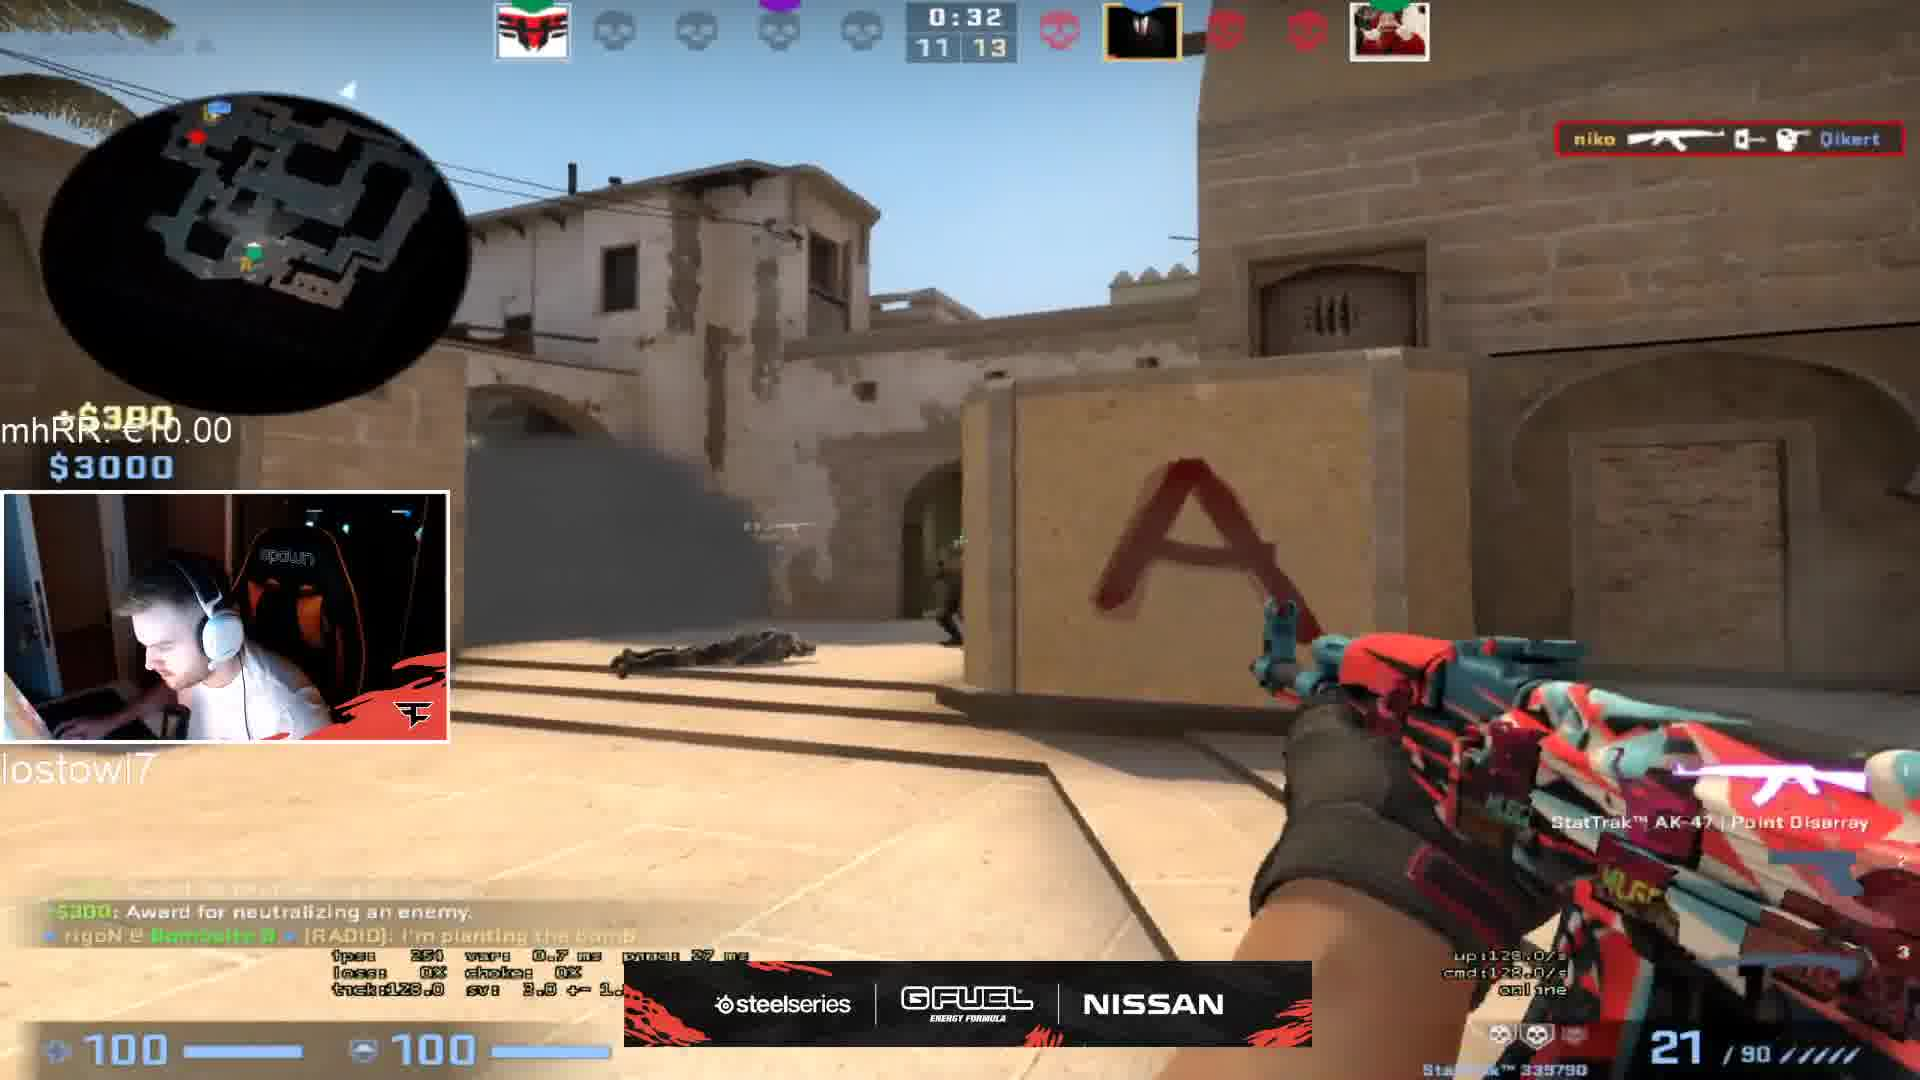enemy: (923, 534, 975, 649)
